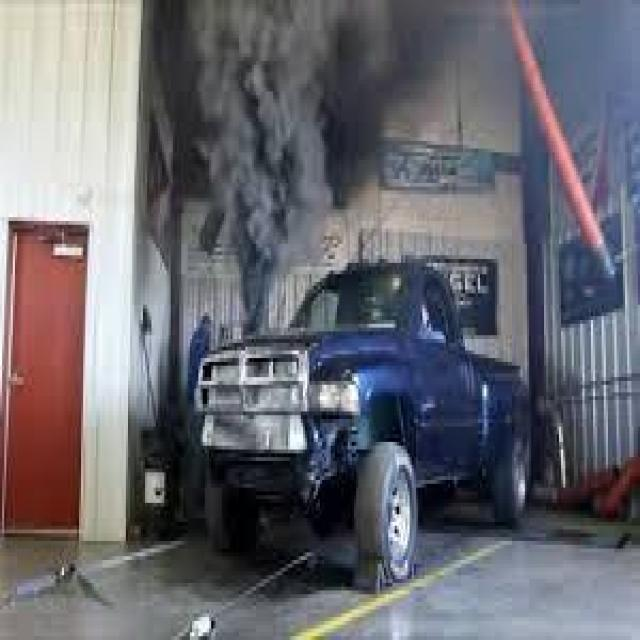Smoke: (162, 0, 430, 305)
